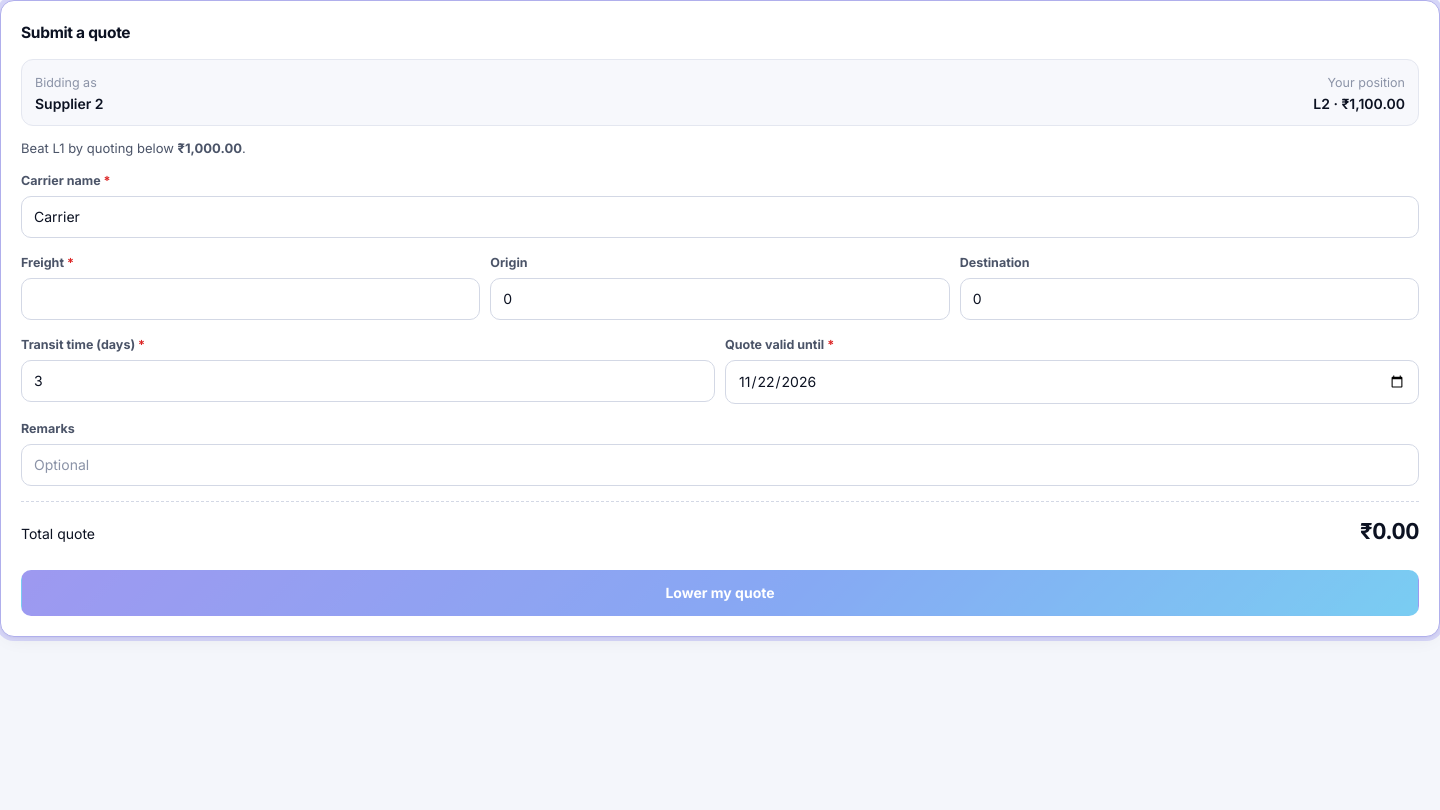
Test: BidForm › shows position, live total and the extension consequence before submitting
The image size is (1440, 810).
Expected: the text "L2 · ₹1,100.00" is shown, x1=1313 y1=93 x2=1405 y2=114
Expected: the text "Beat L1 by quoting below ₹1,000.00." is shown, x1=21 y1=140 x2=246 y2=156
Type "950" into the number field labelled "Freight *". click: (251, 299)
box: x1=21 y1=278 x2=480 y2=320
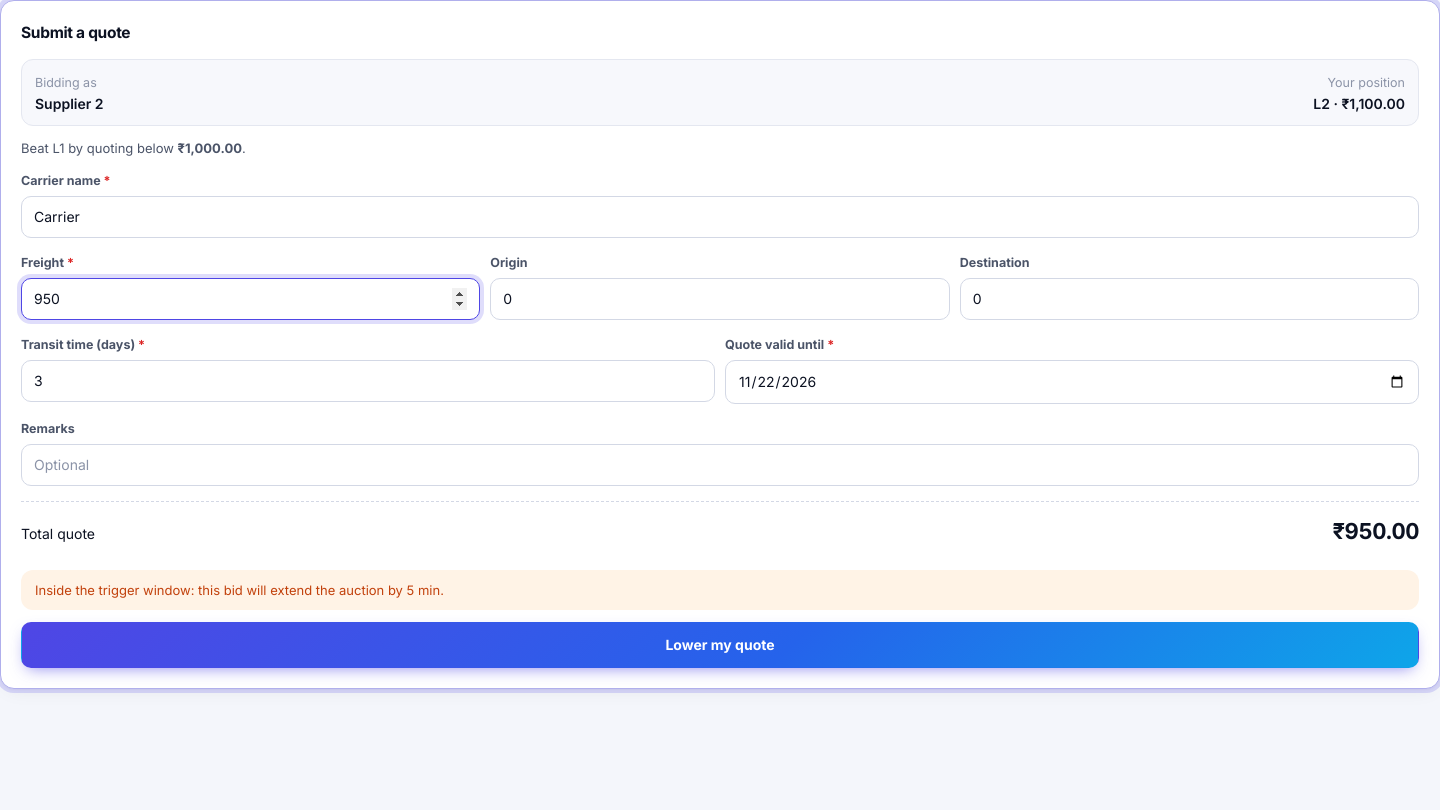
Expected: the text "₹950.00" is shown, x1=1332 y1=514 x2=1419 y2=548
Expected: the text "will extend the auction by 5 min" is shown, x1=35 y1=582 x2=444 y2=598
Replace the text in the number field labelled "Freight *" with "1050". click: (251, 299)
box: x1=21 y1=278 x2=480 y2=320
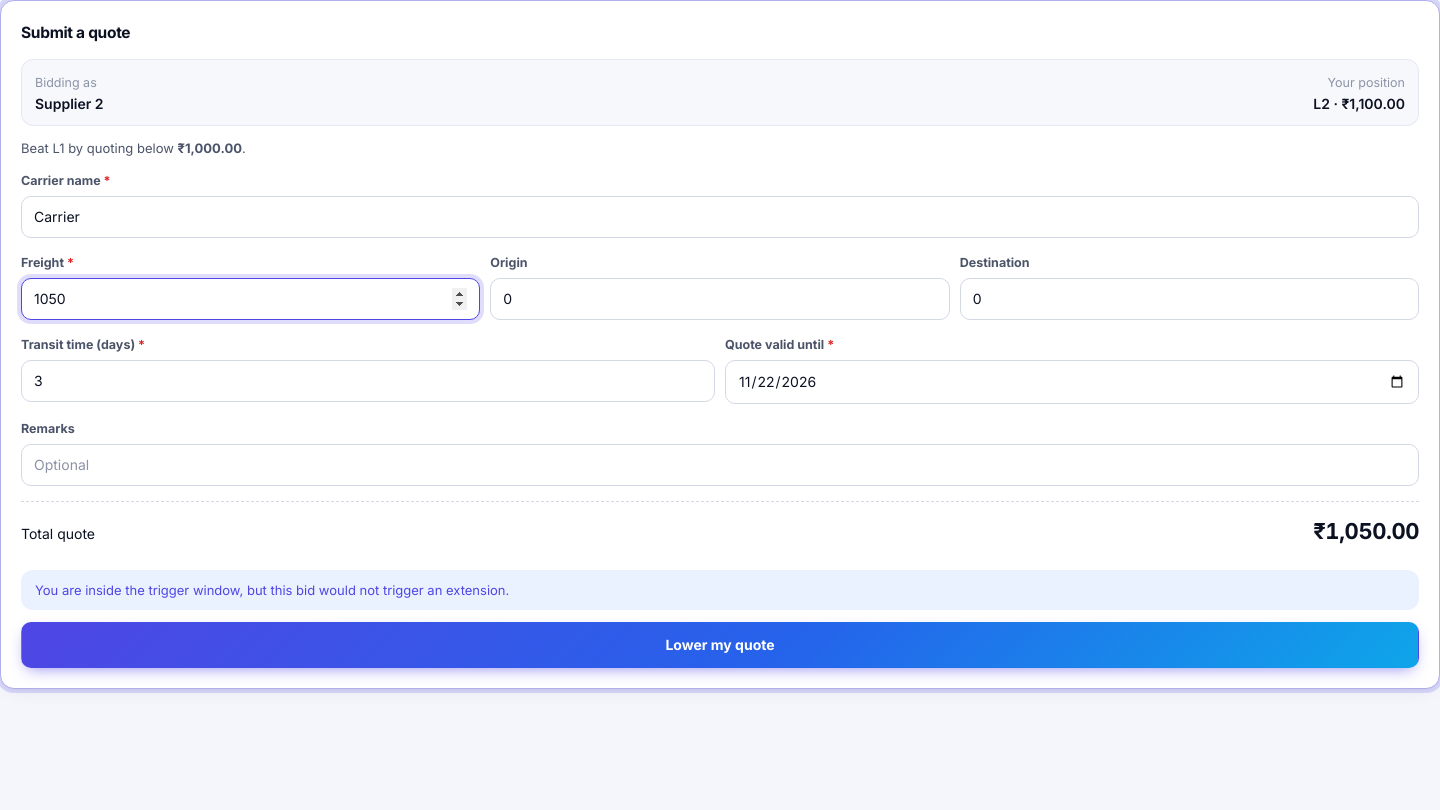
Expected: the text "would not trigger an extension" is shown, x1=35 y1=582 x2=509 y2=598
